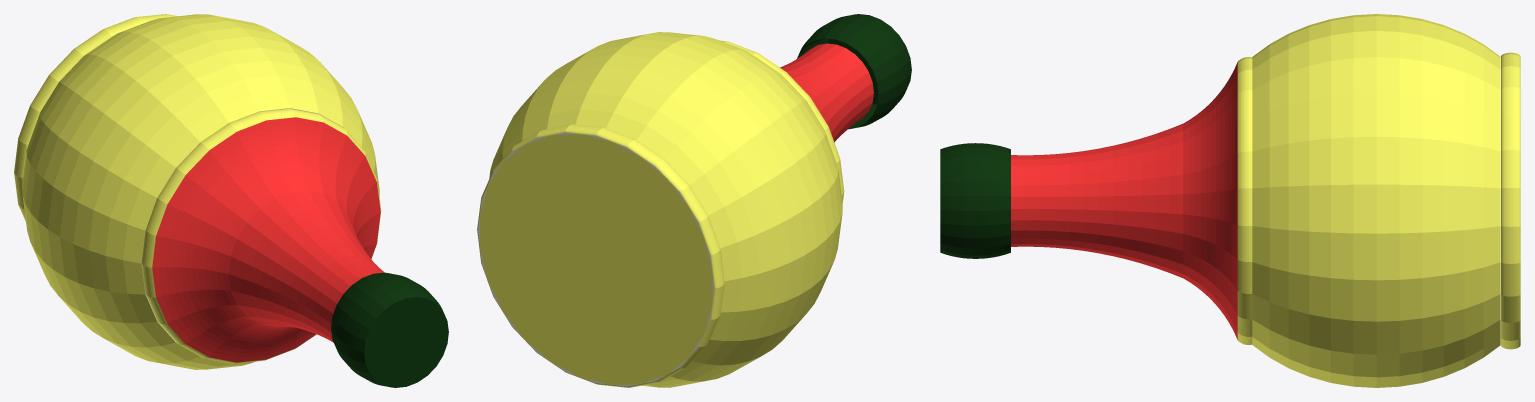
The picture shows the model from 3 angles, left to right: view 1: azimuth 30°, elevation 25°; view 2: azimuth 150°, elevation 25°; view 3: azimuth 270°, elevation 25°; orthographic projection. The views are drawn at different scales.
Parts seen in each view (by area): view 1: monopoly token wine bottle; view 2: monopoly token wine bottle; view 3: monopoly token wine bottle.
Part boxes in pixels (<box>): monopoly token wine bottle: <box>14,14,448,387</box>; monopoly token wine bottle: <box>477,14,911,387</box>; monopoly token wine bottle: <box>940,14,1520,387</box>.
Bounding box in the file's own units: 913 × 913 × 1412.
